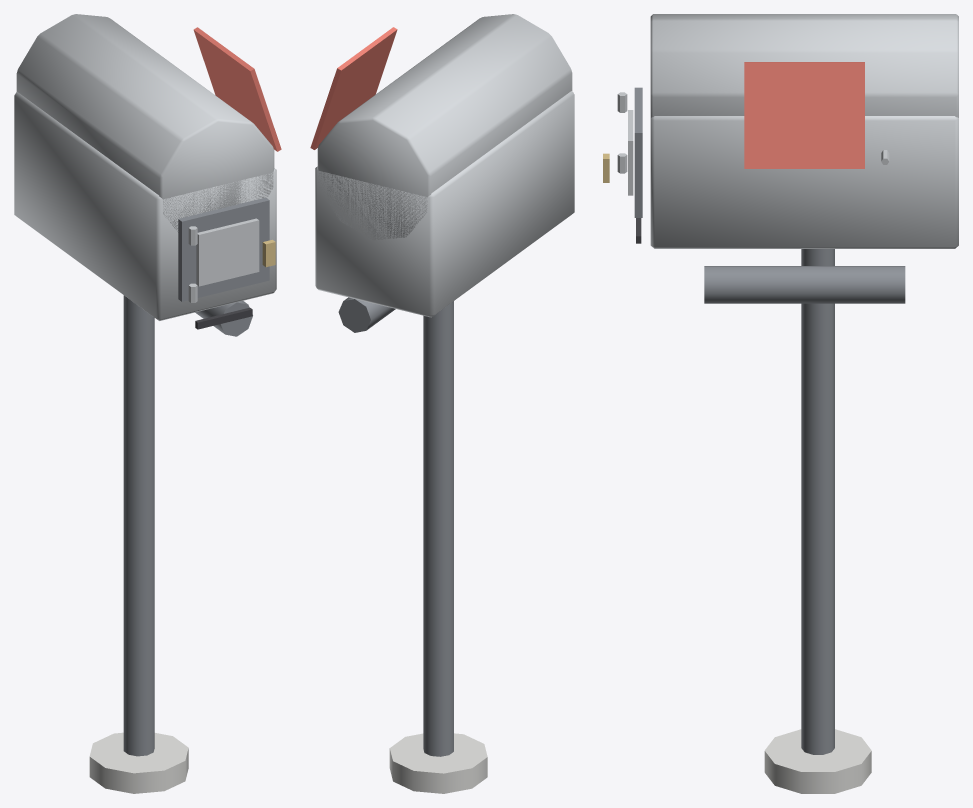
The model's file is Mailbox.fbx.
The picture shows the model from 3 angles, left to right: view 1: azimuth 30°, elevation 25°; view 2: azimuth 150°, elevation 25°; view 3: azimuth 270°, elevation 25°; orthographic projection. The views are drawn at different scales.
Visible parts, largest first — view 1: LOD0; view 2: LOD0; view 3: LOD0.
Boxes of the visible parts, <box> form: LOD0: <box>14,14,281,793</box>; LOD0: <box>310,14,574,793</box>; LOD0: <box>603,14,958,793</box>.
Size of what is drawn, in the model's own units: 30.65 by 124 by 53.1.
